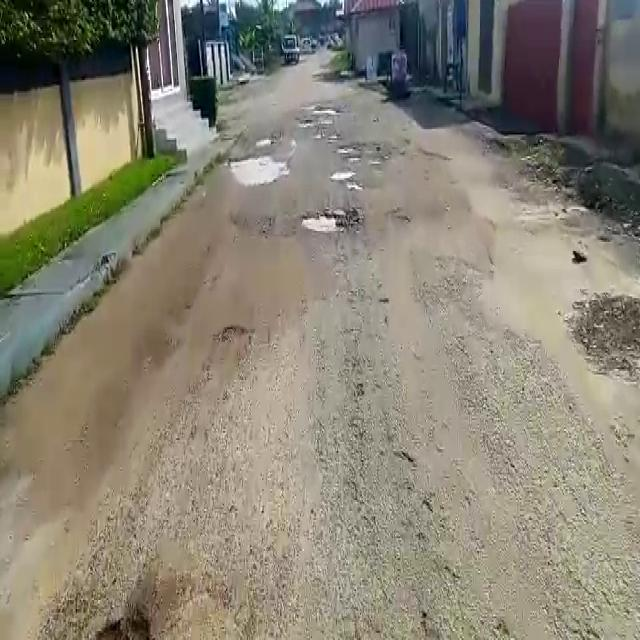Pothole: (230, 150, 285, 182), (298, 208, 356, 235), (329, 173, 359, 184), (336, 144, 363, 156)
